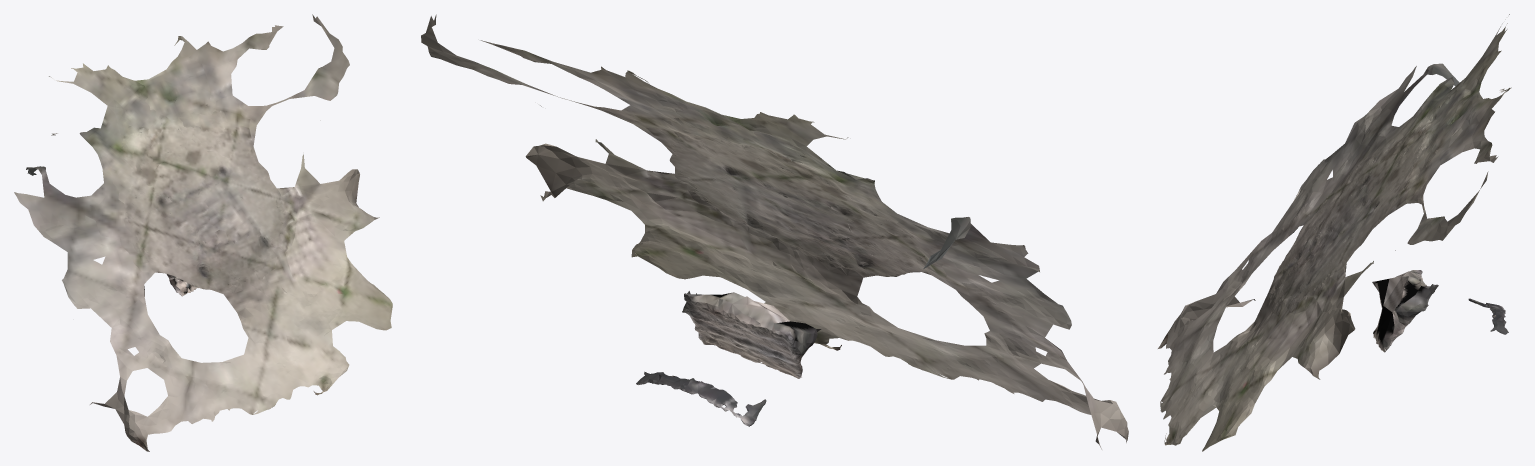
The model's file is texturedMesh.obj.
3 views of the same model, side by side, from view 1: azimuth 30°, elevation 25°; view 2: azimuth 150°, elevation 25°; view 3: azimuth 270°, elevation 25° (orthographic). The views are drawn at different scales.
Visible parts, largest first — view 1: TexturedMesh; view 2: TexturedMesh; view 3: TexturedMesh.
Boxes of the visible parts, x1=… form: TexturedMesh: x1=14, y1=14, x2=392, y2=451; TexturedMesh: x1=421, y1=14, x2=1128, y2=449; TexturedMesh: x1=1158, y1=14, x2=1511, y2=451.
Bounding box in the file's own units: 3.58 × 2.75 × 2.47.
1 material, 1 textured.
